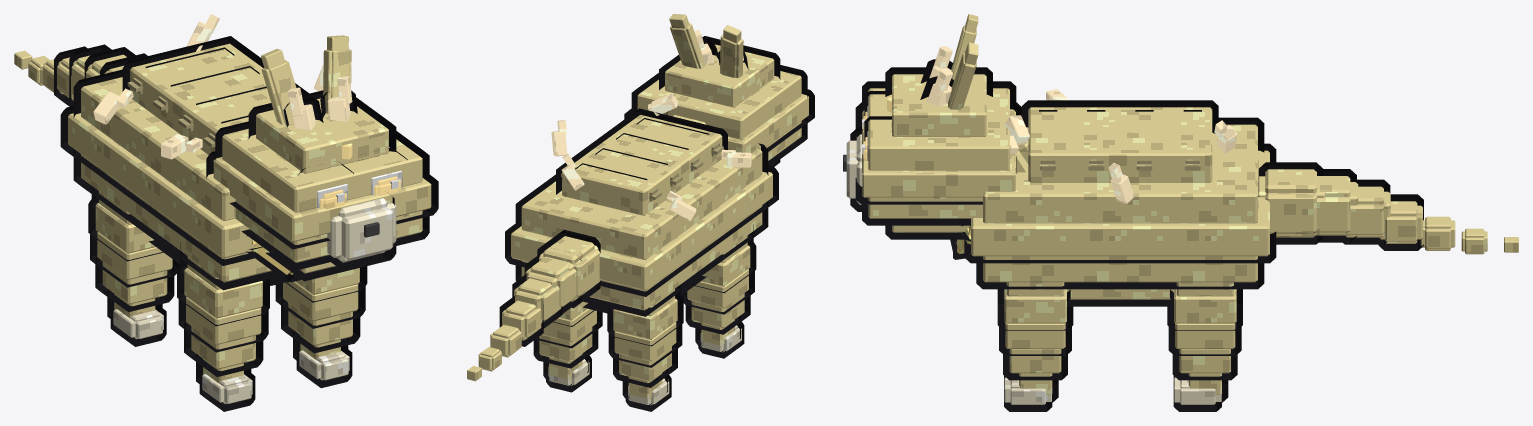
File: desert_fox_09.glb
3 renders of one model, left to right at view 1: azimuth 30°, elevation 25°; view 2: azimuth 150°, elevation 25°; view 3: azimuth 270°, elevation 25°, orthographic. The views are drawn at different scales.
Visible parts, largest first — view 1: model; view 2: model; view 3: model.
Part boxes in pixels (box(x1,y1,x2,y2)): model: box(14, 14, 438, 411); model: box(467, 14, 814, 411); model: box(843, 14, 1518, 411).
Bounding box in the file's own units: 1.27 × 2.12 × 3.68.
9 materials, 8 textured.
